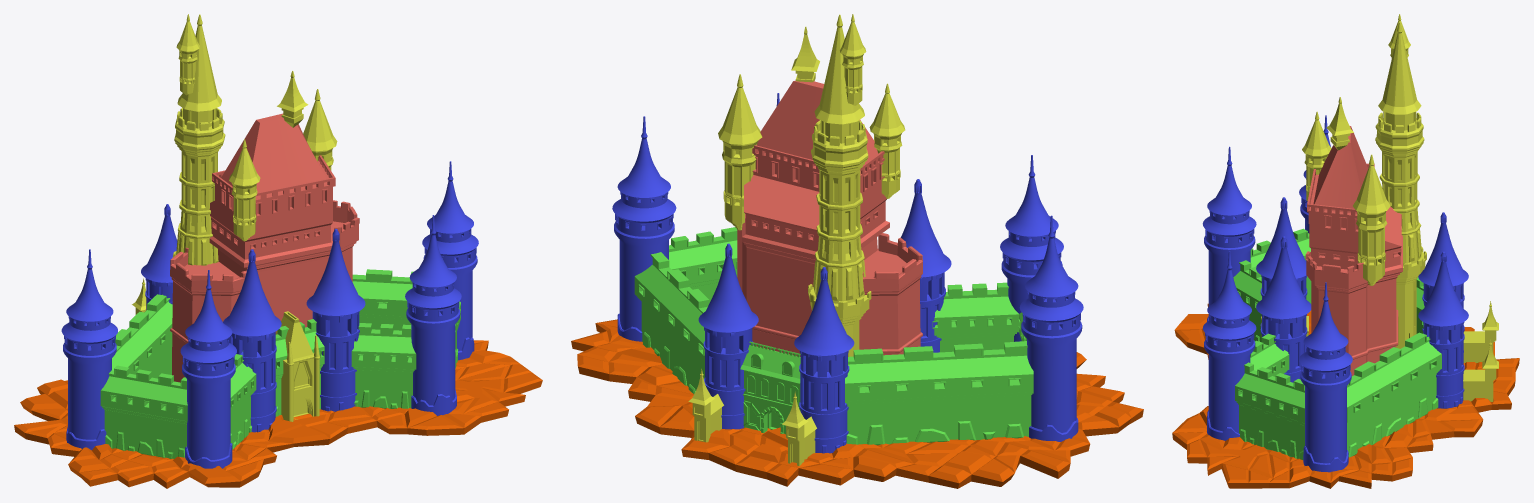
Rendered from zamok.fbx.
The picture shows the model from 3 angles, left to right: view 1: azimuth 30°, elevation 25°; view 2: azimuth 150°, elevation 25°; view 3: azimuth 270°, elevation 25°; orthographic projection. The views are drawn at different scales.
Parts seen in each view (by area): view 1: Цилиндр.001, Куб.011, Куб.008, Плоскость, Куб.010; view 2: Цилиндр.001, Куб.008, Куб.011, Плоскость, Куб.010; view 3: Цилиндр.001, Куб.008, Куб.010, Плоскость, Куб.011.
Boxes of the visible parts, box(x1,y1,x2,y2) form: Цилиндр.001: box(61, 161, 478, 468); Куб.011: box(170, 113, 359, 382); Куб.008: box(100, 269, 460, 458); Плоскость: box(14, 340, 542, 488); Куб.010: box(132, 14, 337, 421); Цилиндр.001: box(612, 93, 1083, 453); Куб.008: box(634, 227, 1033, 445); Куб.011: box(737, 80, 922, 356); Плоскость: box(571, 319, 1143, 488); Куб.010: box(688, 14, 905, 466); Цилиндр.001: box(1202, 115, 1468, 472); Куб.008: box(1233, 228, 1441, 459); Куб.010: box(1261, 14, 1498, 401); Плоскость: box(1172, 303, 1519, 488); Куб.011: box(1305, 126, 1402, 375).
Bounding box in the file's own units: 22013 × 17663 × 15762.
